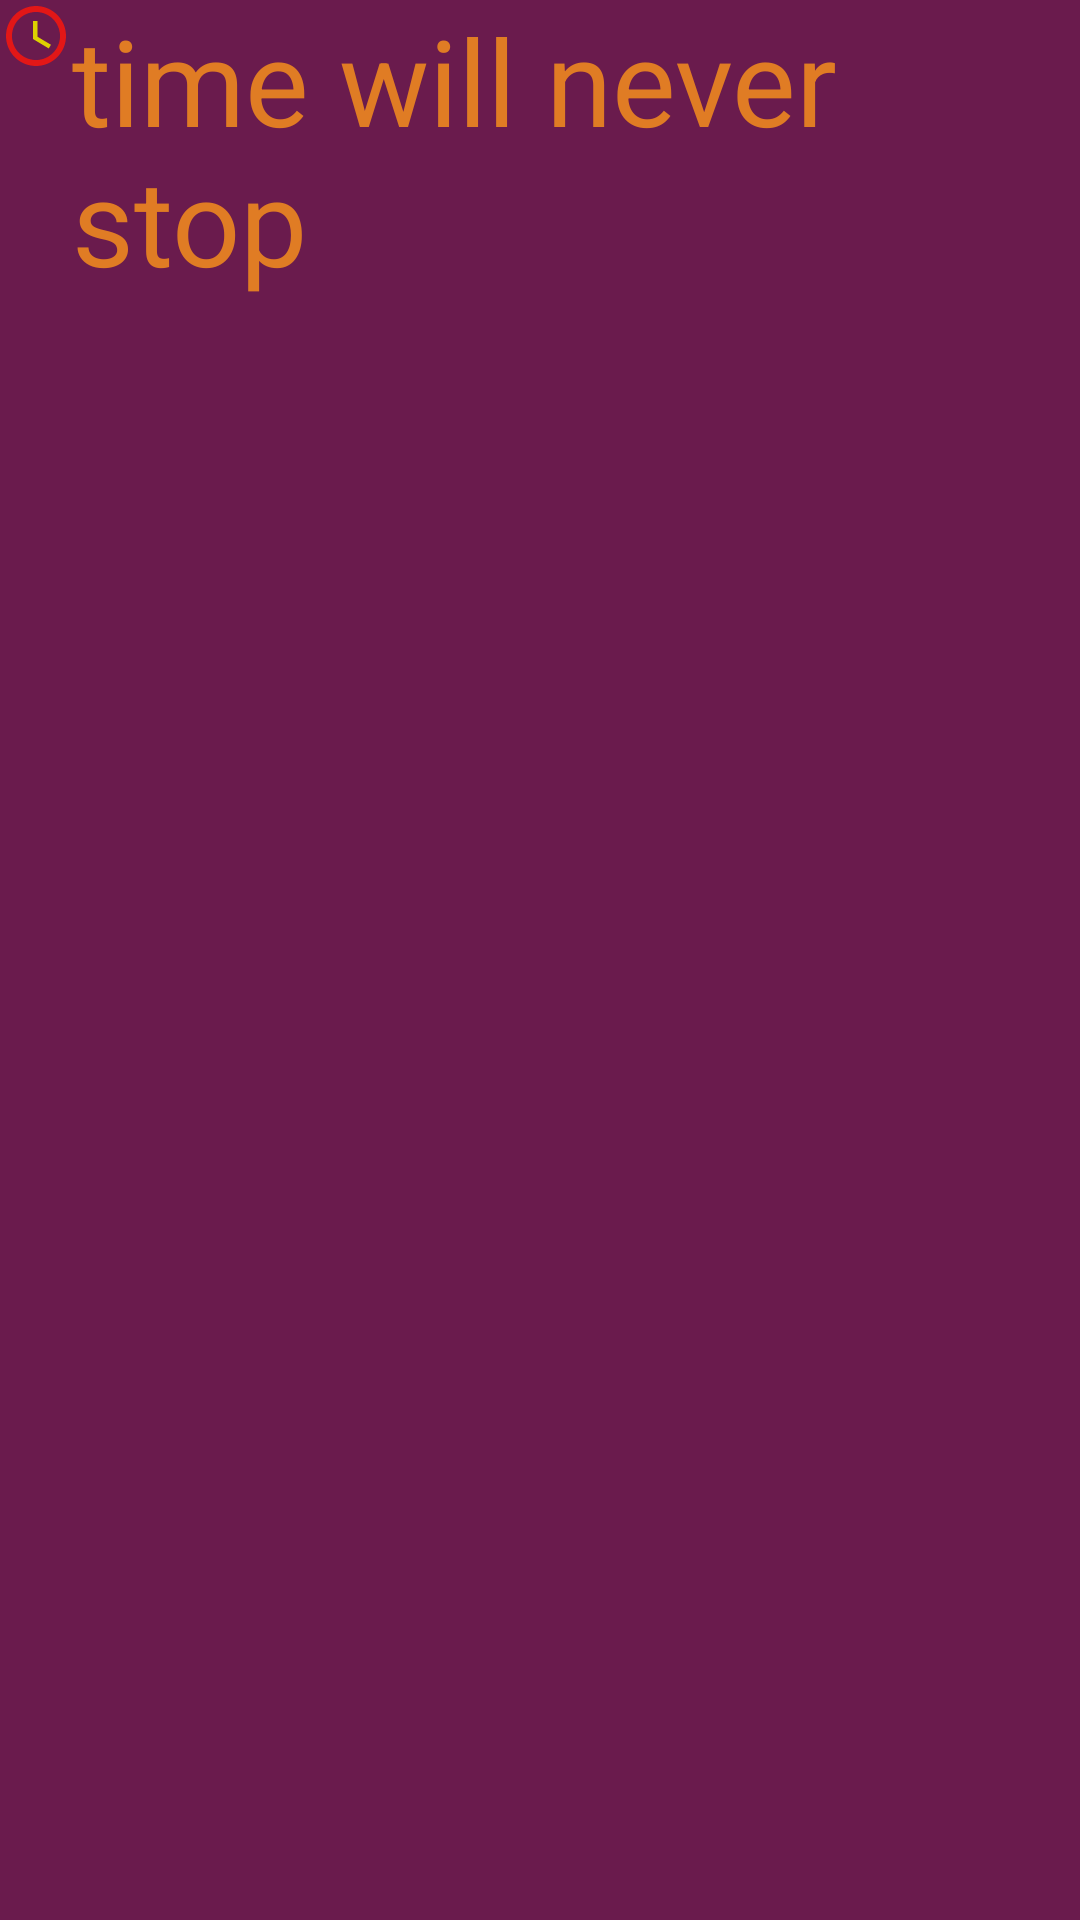

Icons on this 1080px x 1920px Android screen, each with the point to tap as (x=x, y=y):
schedule: (x=36, y=36)
